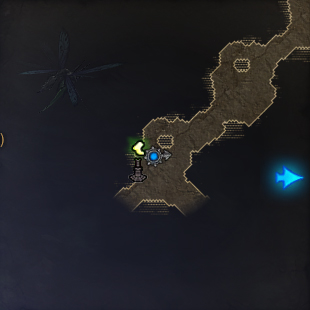SpeedPylon: (130, 139, 148, 183)
